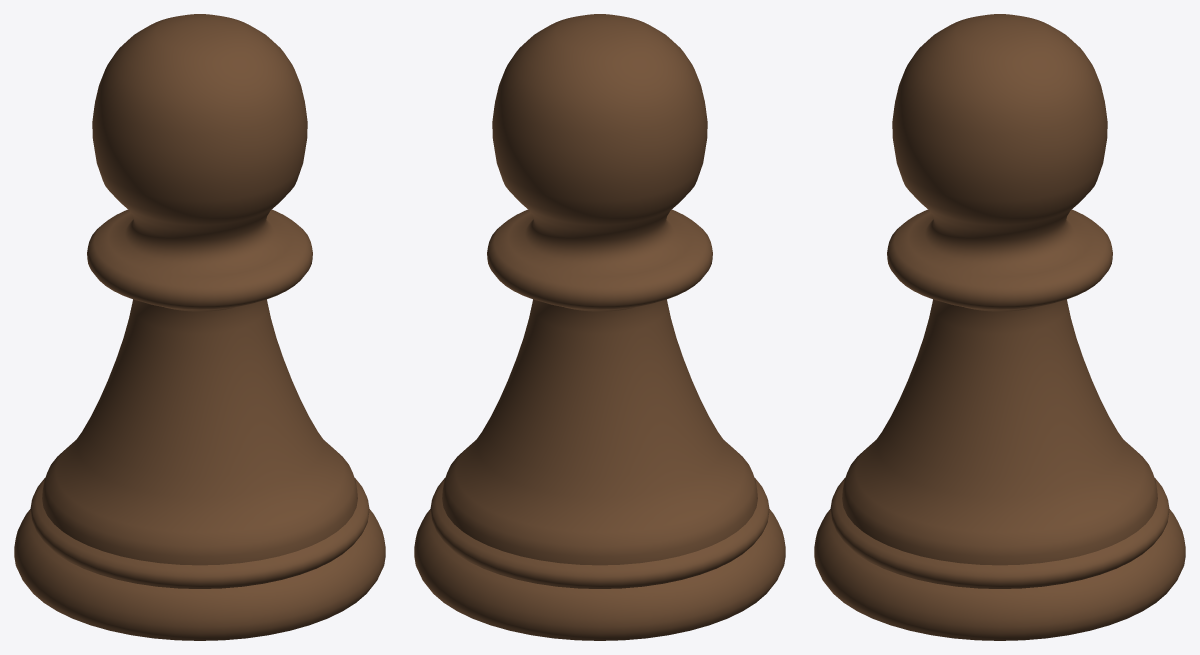
Rendered from black-pawn.glb.
3 views of the same model, side by side, from view 1: azimuth 30°, elevation 25°; view 2: azimuth 150°, elevation 25°; view 3: azimuth 270°, elevation 25° (orthographic).
Visible parts, largest first — view 1: black-pawn.001; view 2: black-pawn.001; view 3: black-pawn.001.
Part boxes in pixels (bbox=[...]): black-pawn.001: bbox=[14, 14, 385, 640]; black-pawn.001: bbox=[414, 14, 785, 640]; black-pawn.001: bbox=[814, 14, 1185, 640].
Bounding box in the file's own units: 0.52 × 0.83 × 0.52.
